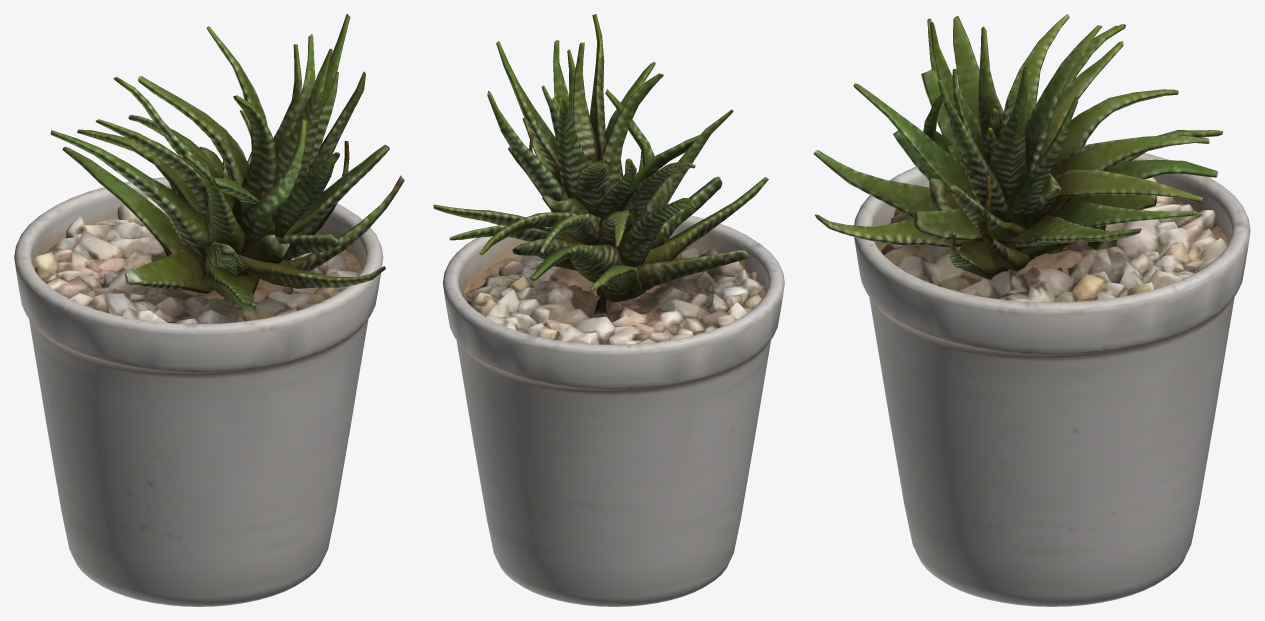
Rendered from succulent.f9a25f86.glb.
The picture shows the model from 3 angles, left to right: view 1: azimuth 30°, elevation 25°; view 2: azimuth 150°, elevation 25°; view 3: azimuth 270°, elevation 25°; orthographic projection. The views are drawn at different scales.
Visible parts, largest first — view 1: potted_plant_04_ground; view 2: potted_plant_04_ground; view 3: potted_plant_04_ground.
Part boxes in pixels (x1,y1,x2,y2): potted_plant_04_ground: (14, 14, 404, 606); potted_plant_04_ground: (433, 14, 784, 606); potted_plant_04_ground: (813, 14, 1250, 606).
Bounding box in the file's own units: 0.1679 × 0.2675 × 0.1847.
1 material, 1 textured.
